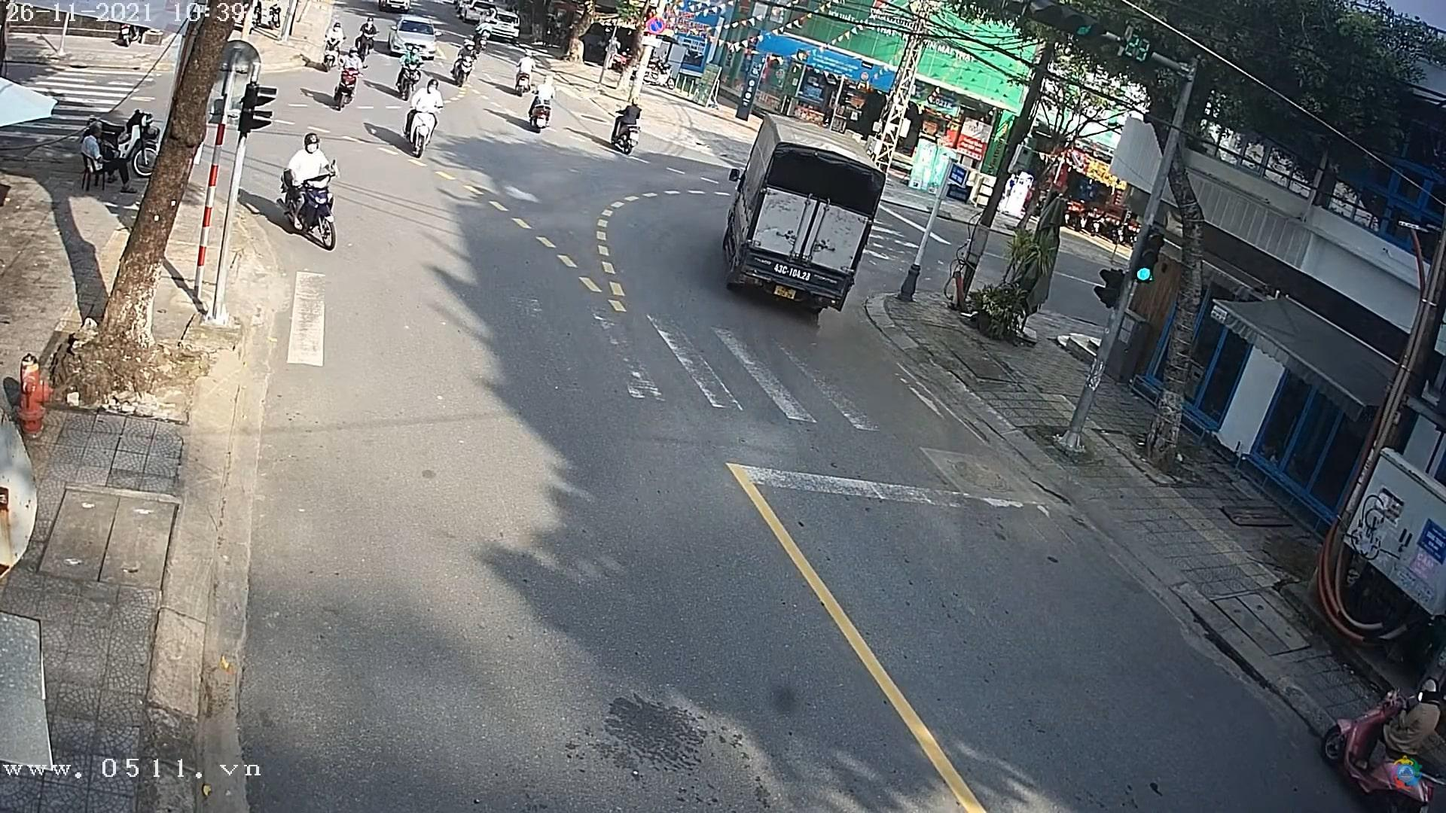motorbike: (279, 155, 343, 255), (401, 94, 444, 165), (330, 56, 362, 116), (526, 87, 558, 138), (611, 110, 641, 162)
truck: (720, 111, 885, 323)
